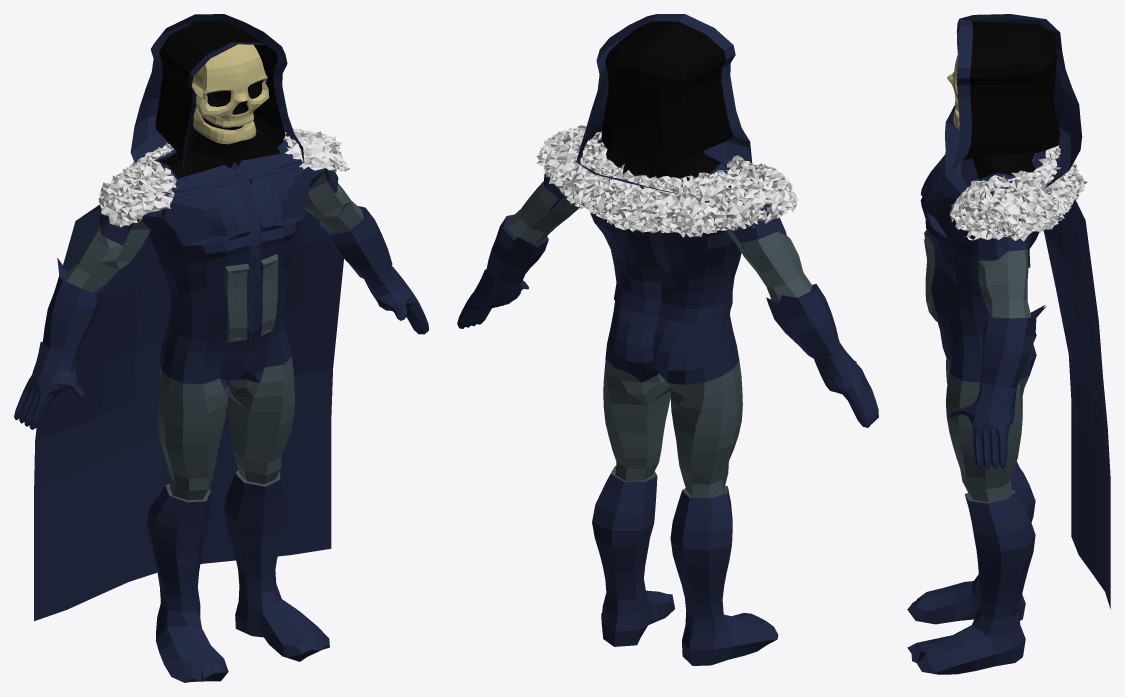
Rendered from Skeleton Mage.fbx.
3 views of the same model, side by side, from view 1: azimuth 30°, elevation 25°; view 2: azimuth 150°, elevation 25°; view 3: azimuth 270°, elevation 25° (orthographic).
Parts seen in each view (by area): view 1: GEO-body_male_stylized.001, Plane.001, hood, Cube, Mesh, GEO-body_male_stylized.002; view 2: GEO-body_male_stylized.001, hood, Mesh, GEO-body_male_stylized.002; view 3: GEO-body_male_stylized.001, hood, Plane.001, Mesh, GEO-body_male_stylized.002, Cube.
Boxes of the visible parts, <box> form: GEO-body_male_stylized.001: <box>42,115,392,682</box>; Plane.001: <box>34,204,343,621</box>; hood: <box>130,14,304,194</box>; Cube: <box>192,44,269,144</box>; Mesh: <box>98,127,350,227</box>; GEO-body_male_stylized.002: <box>14,266,428,429</box>; GEO-body_male_stylized.001: <box>486,139,841,665</box>; hood: <box>576,14,752,193</box>; Mesh: <box>536,125,798,237</box>; GEO-body_male_stylized.002: <box>457,269,878,427</box>; GEO-body_male_stylized.001: <box>907,152,1046,674</box>; hood: <box>945,14,1082,193</box>; Plane.001: <box>1044,200,1110,608</box>; Mesh: <box>949,145,1087,241</box>; GEO-body_male_stylized.002: <box>950,380,1016,468</box>; Cube: <box>947,53,959,128</box>.
Bounding box in the file's own units: 1000 × 1448 × 430.
